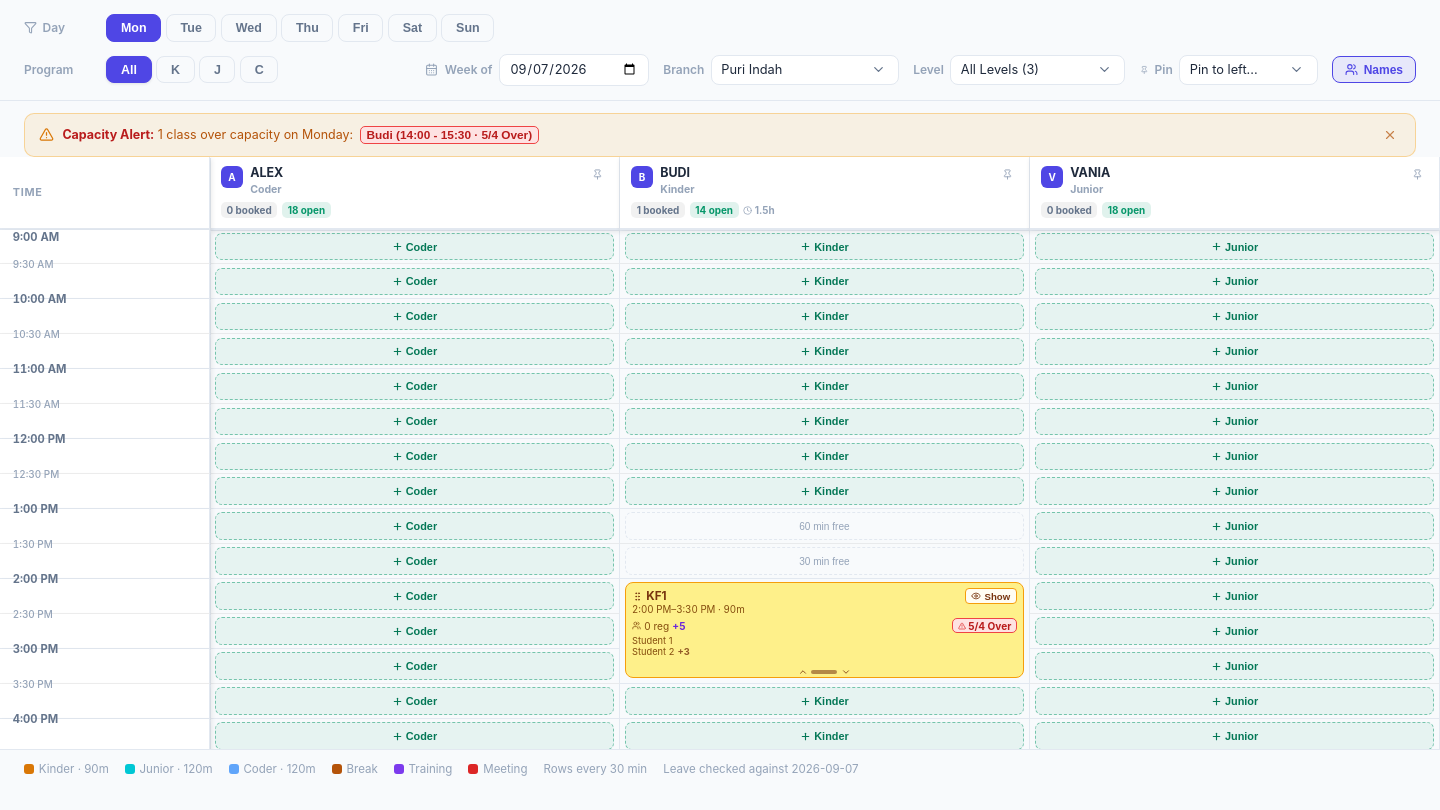
Test: ScheduleGrid UI Integration (Multi-Lesson & Capacity Notifications) › renders over-capacity badge (5/4 Over) and alert for Kinder class exceeding 4 students
Expected: the element with test id "schedule-grid-multi-lesson-day-notice" is shown, x1=24 y1=113 x2=1416 y2=157
Expected: the element with test id "schedule-grid-multi-lesson-day-notice" shows "Capacity Alert:", x1=62 y1=127 x2=154 y2=142
Click card to preview
Click the button with test id "capacity-over-badge".
click(652, 610)  # box x1=625 y1=582 x2=1024 y2=678
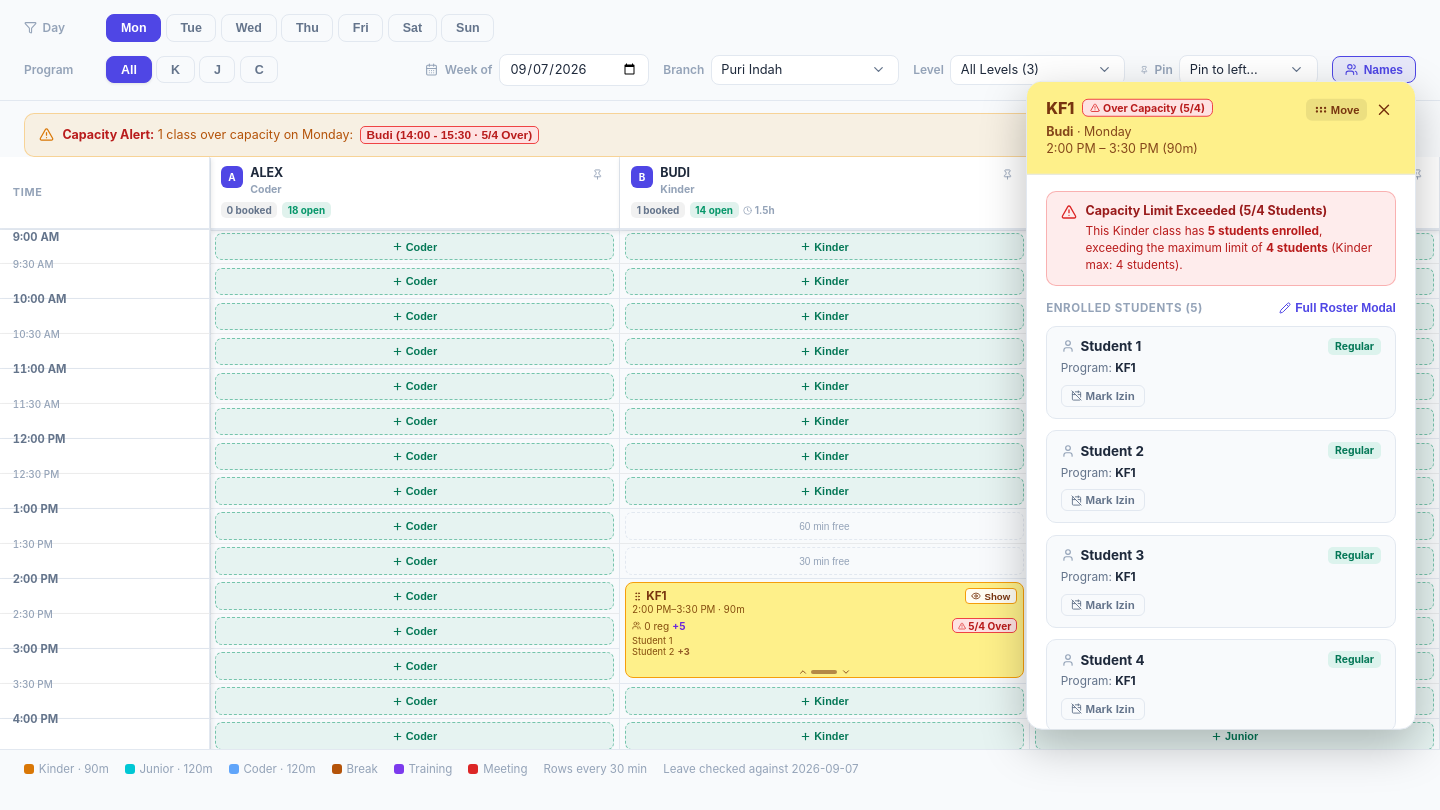
Expected: the element with test id "preview-capacity-over-badge" reads "Over Capacity (5/4)", x1=1082 y1=98 x2=1213 y2=117
Expected: the element with test id "preview-capacity-alert" shows "Capacity Limit Exceeded", x1=1086 y1=203 x2=1244 y2=218
Expected: the element with test id "preview-capacity-alert" shows "exceeding the maximum limit of 4 students", x1=1046 y1=190 x2=1396 y2=285
